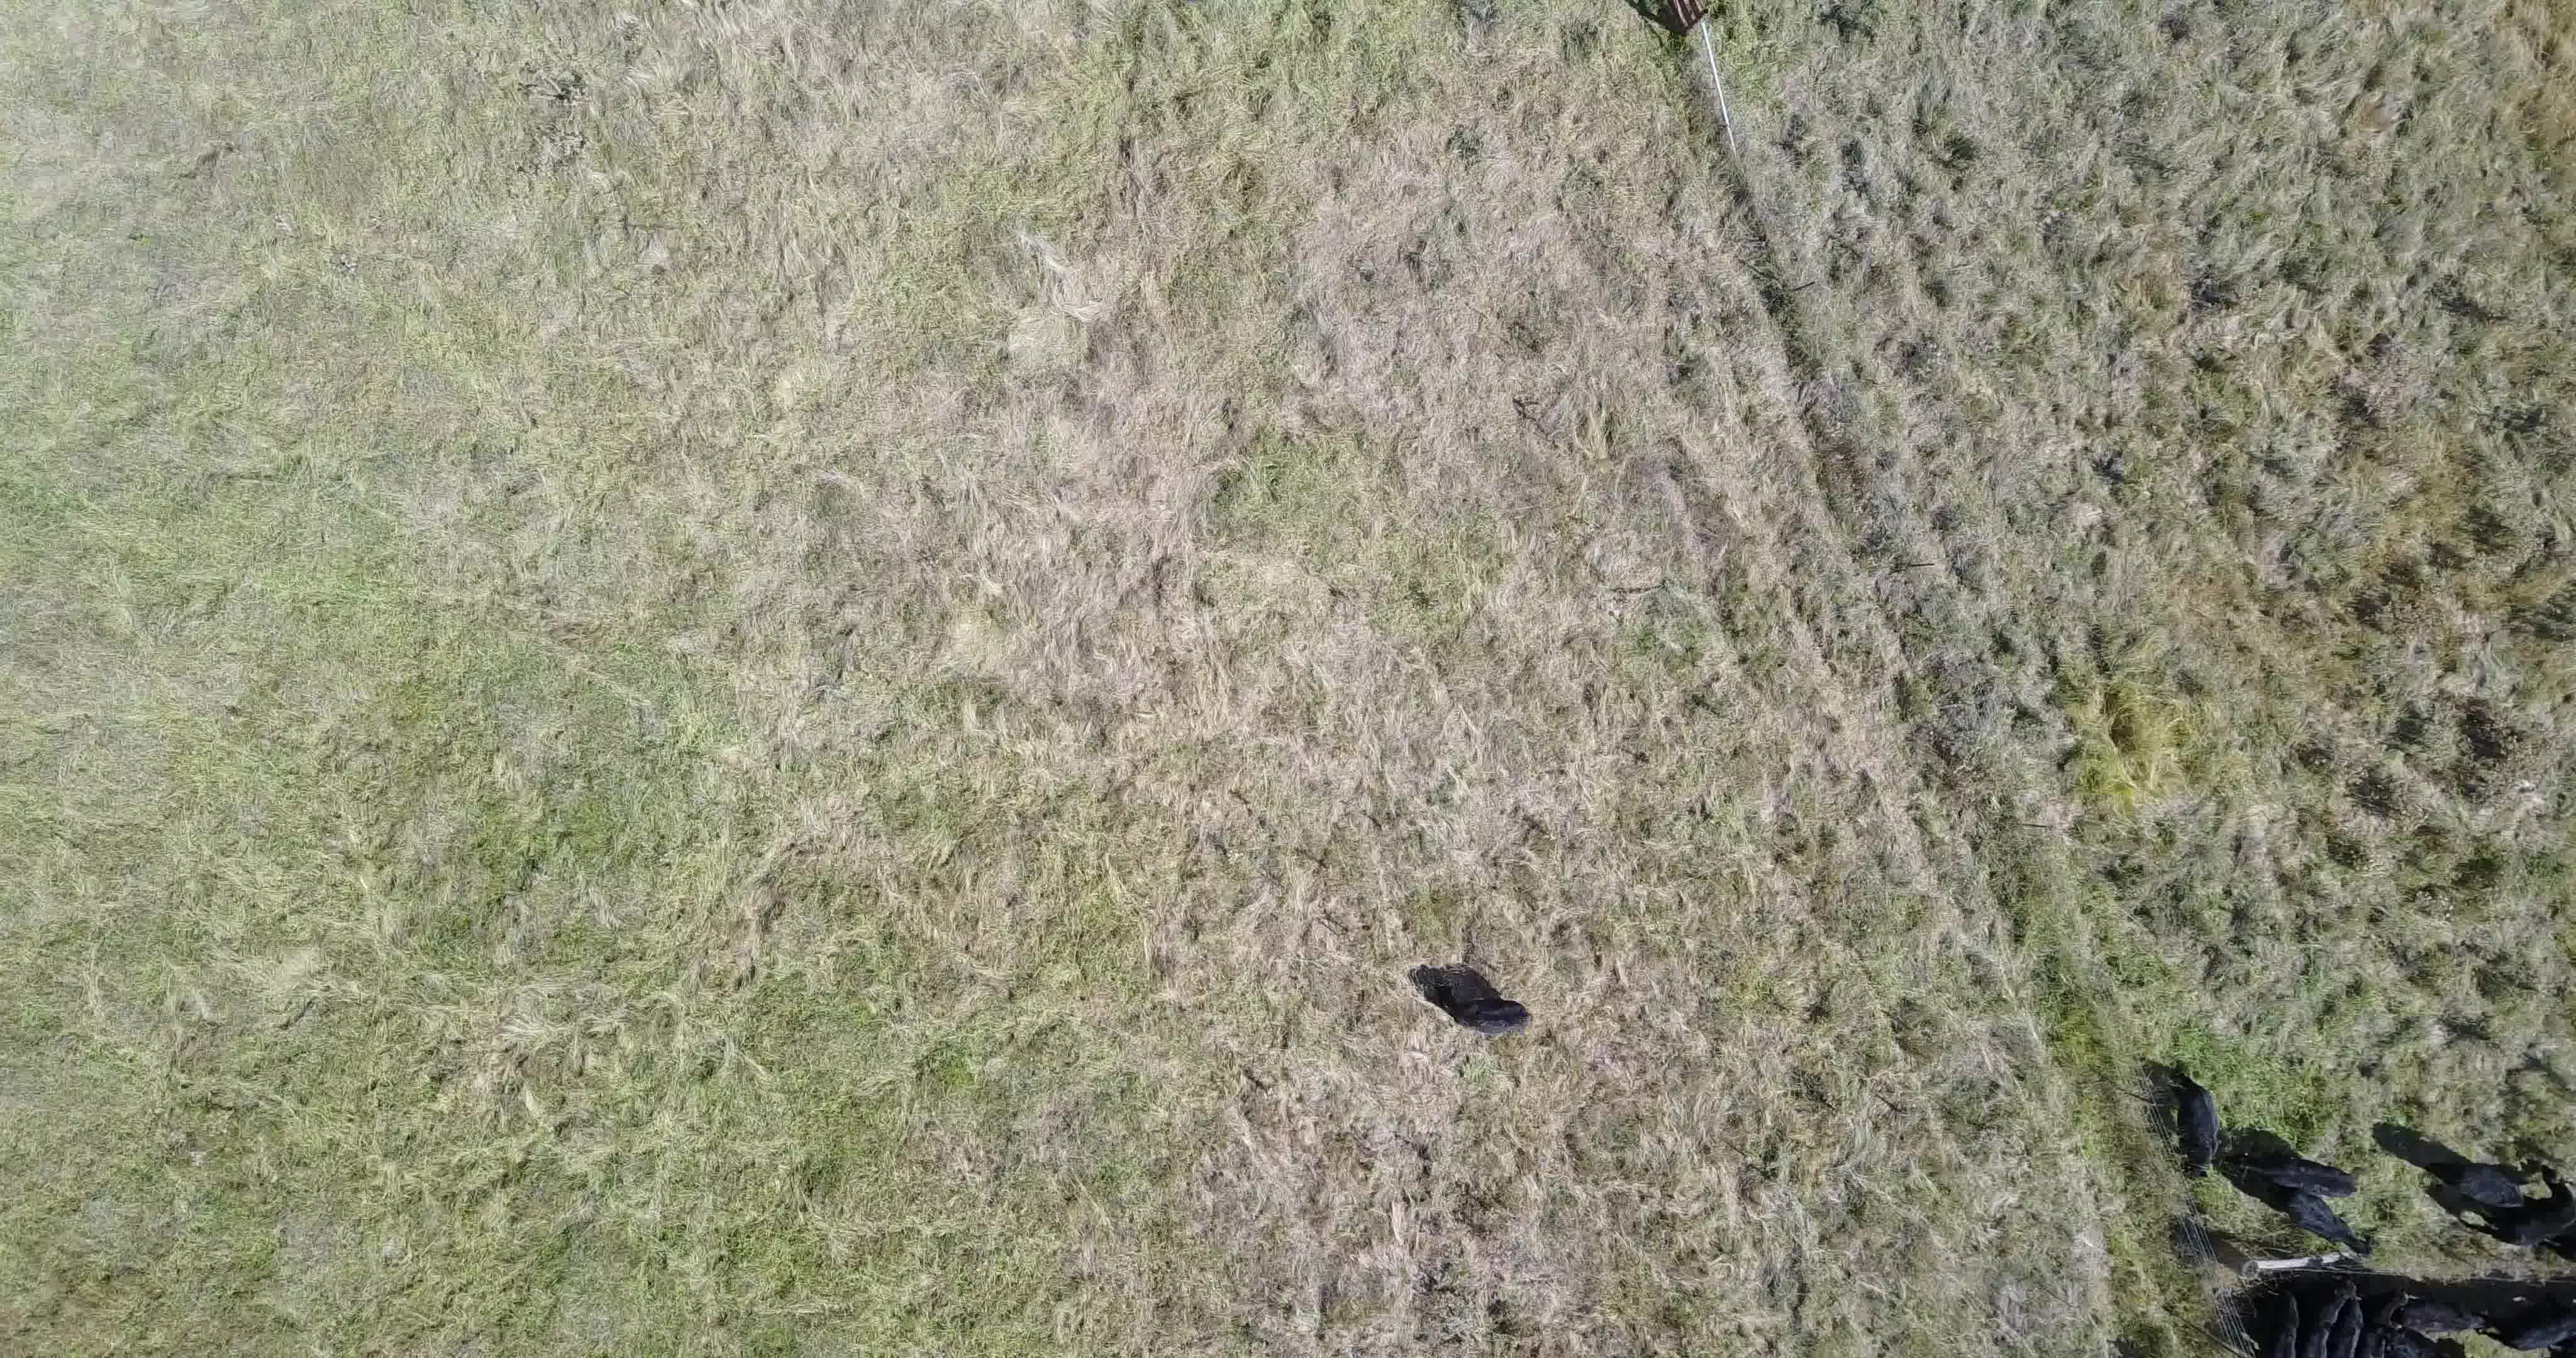cattle: (2470, 1179, 2576, 1254), (2268, 1187, 2373, 1255), (2165, 1066, 2223, 1179), (1422, 981, 1531, 1041), (2230, 1145, 2357, 1196)
